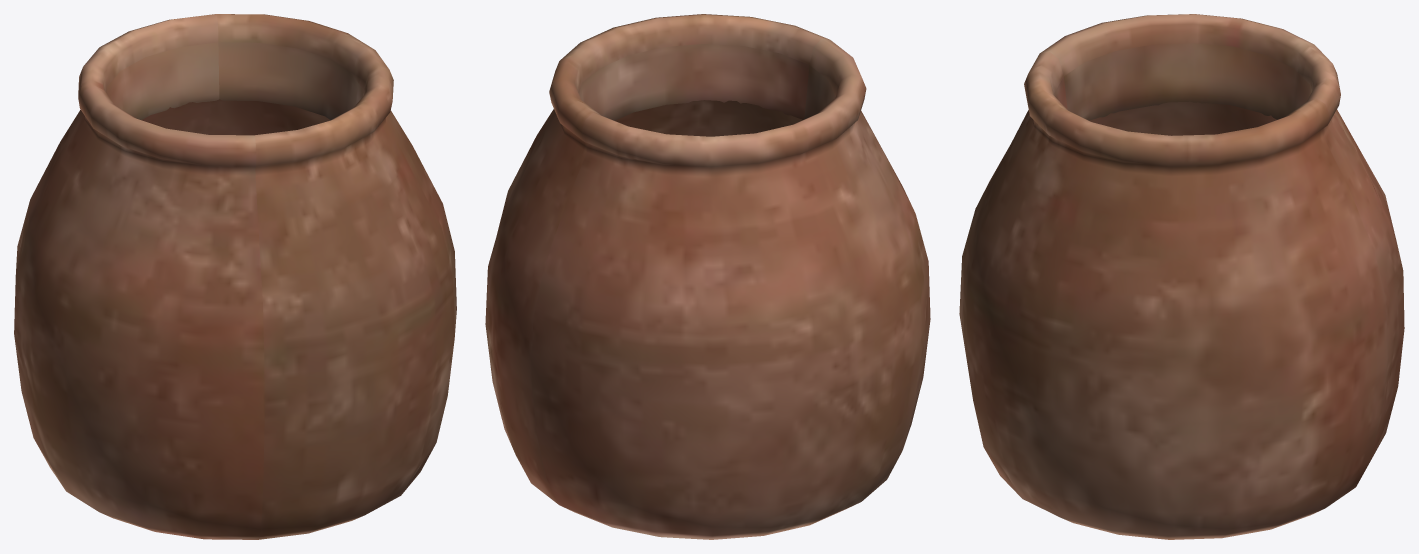
3 views of the same model, side by side, from view 1: azimuth 30°, elevation 25°; view 2: azimuth 150°, elevation 25°; view 3: azimuth 270°, elevation 25° (orthographic).
Visible parts, largest first — view 1: SM_Pot_04_LOD0; view 2: SM_Pot_04_LOD0; view 3: SM_Pot_04_LOD0.
Boxes of the visible parts, bbox=[...] form: SM_Pot_04_LOD0: bbox=[14, 14, 456, 539]; SM_Pot_04_LOD0: bbox=[485, 14, 930, 539]; SM_Pot_04_LOD0: bbox=[959, 14, 1404, 539].
Size of the model in its own units: 0.2361 by 0.2305 by 0.236.
Materials: 1 (1 with a texture image).
